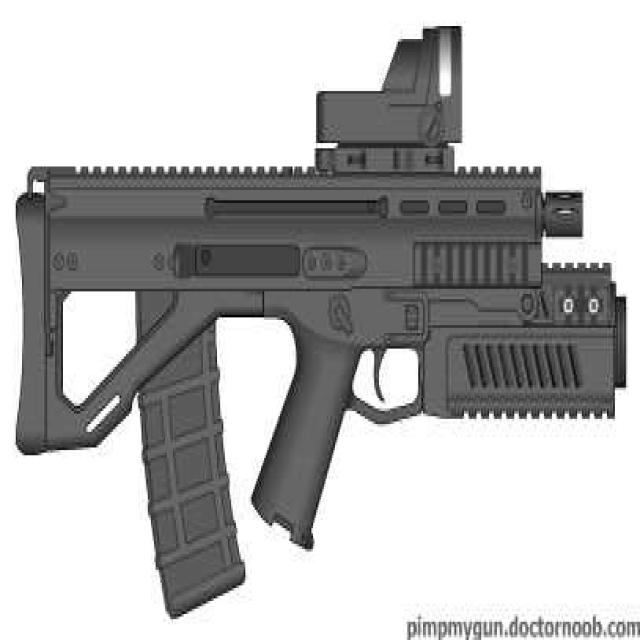MacGun: (10, 21, 630, 610)
